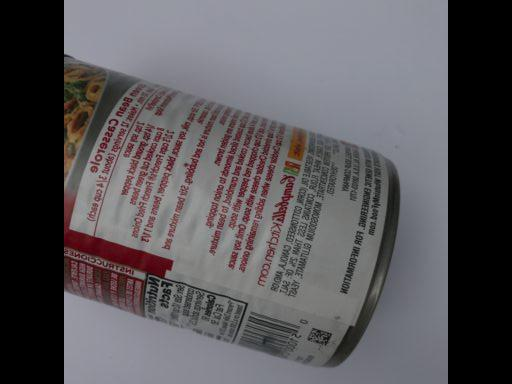metal: (67, 51, 400, 369)
